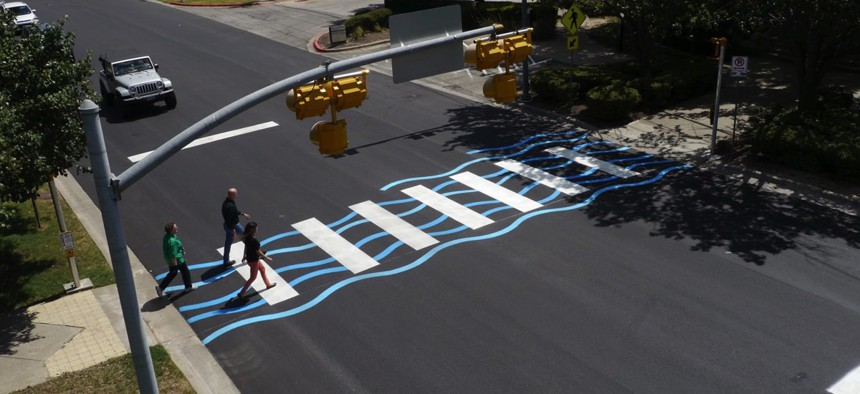Crosswalk: (149, 141, 658, 337)
